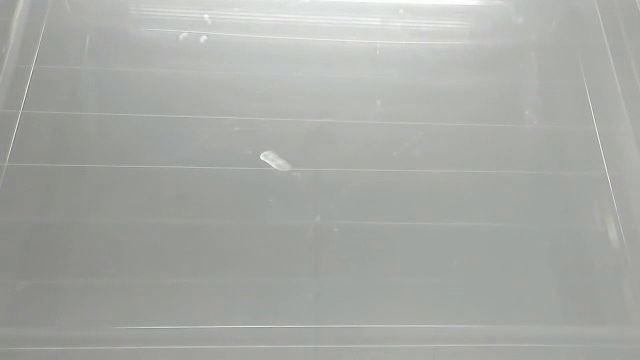alpha: (254, 148, 298, 178)
